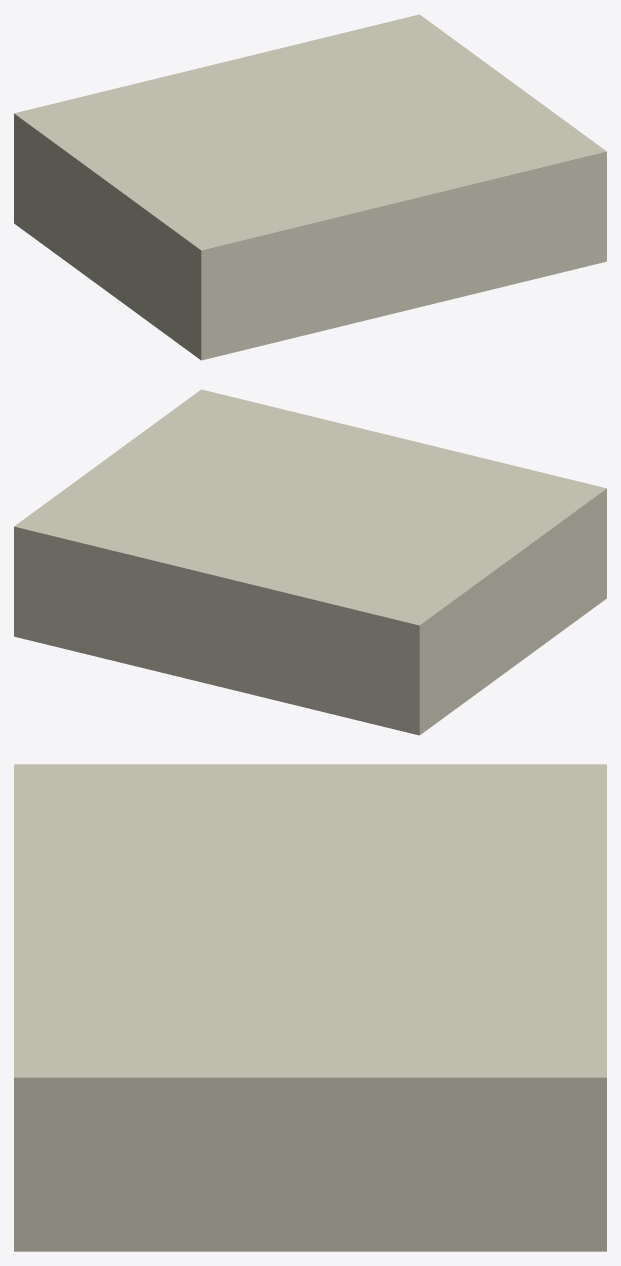
3 views of the same model, one above another, from view 1: azimuth 30°, elevation 25°; view 2: azimuth 150°, elevation 25°; view 3: azimuth 270°, elevation 25° (orthographic). The views are drawn at different scales.
Visible parts, largest first — view 1: Cube.001; view 2: Cube.001; view 3: Cube.001.
Boxes of the visible parts, left/top/right/bottom form: Cube.001: left=14, top=14, right=606, bottom=360; Cube.001: left=14, top=389, right=606, bottom=735; Cube.001: left=14, top=764, right=606, bottom=1251.
Size of the model in its own units: 5.4 by 1.4 by 4.32.
